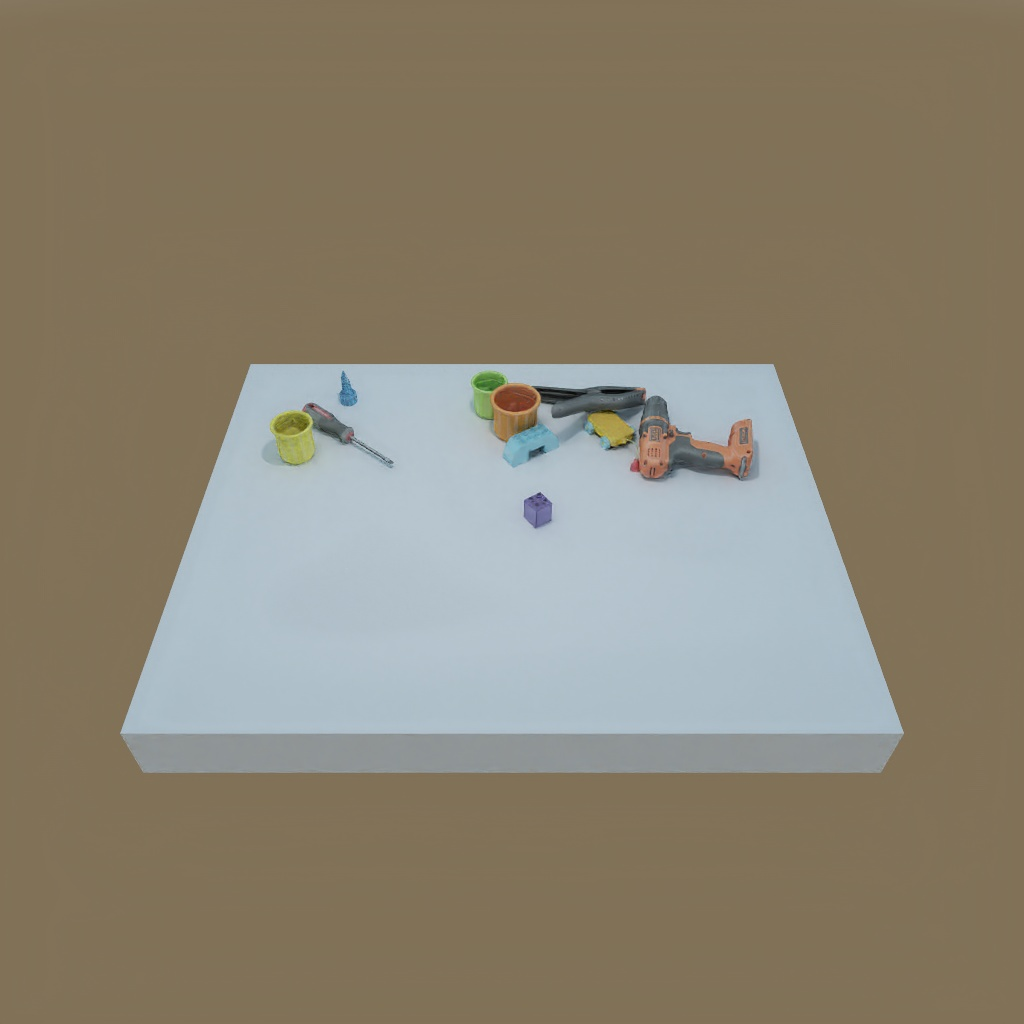power_drill: (631, 395, 758, 491)
